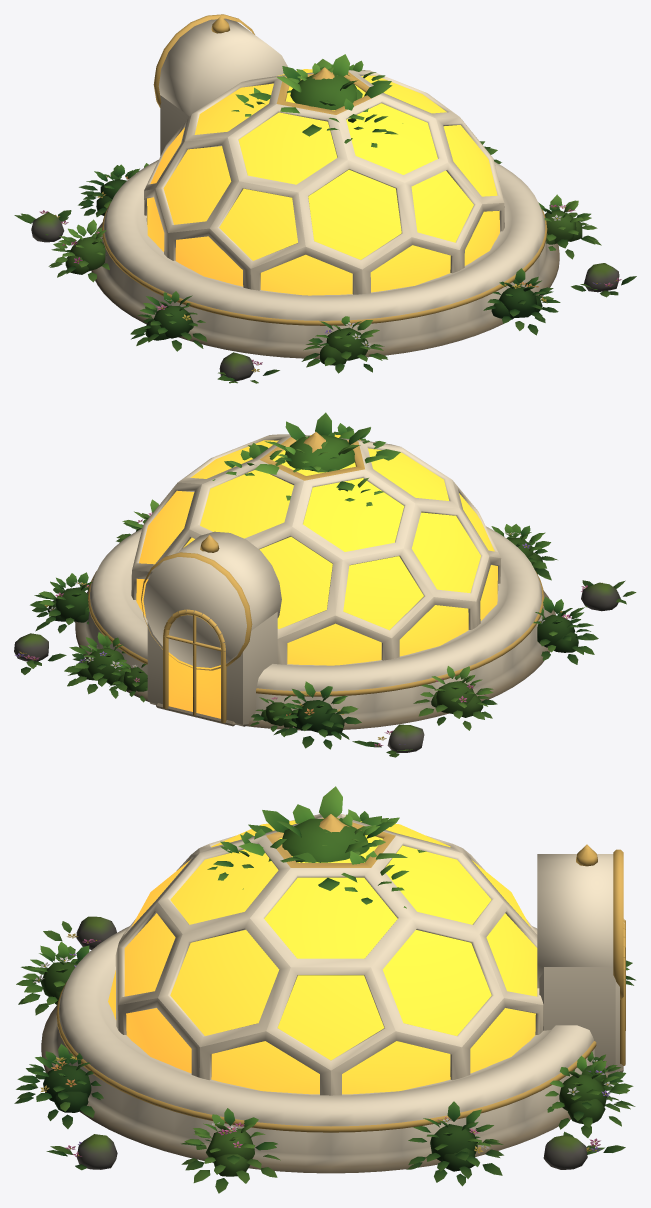
File: kit.glb
The picture shows the model from 3 angles, top to bottom: view 1: azimuth 30°, elevation 25°; view 2: azimuth 150°, elevation 25°; view 3: azimuth 270°, elevation 25°; orthographic projection. The views are drawn at different scales.
Visible parts, largest first — view 1: Kit_greenhouse, Kit_tree_a, Kit_portal; view 2: Kit_greenhouse, Kit_tree_a, Kit_portal; view 3: Kit_greenhouse, Kit_tree_a, Kit_portal.
Part boxes in pixels (x1,y1,x2,y2): Kit_greenhouse: (14,14,636,383); Kit_tree_a: (249,54,402,136); Kit_portal: (231,60,397,147); Kit_greenhouse: (14,432,636,757); Kit_tree_a: (248,412,400,500); Kit_portal: (212,423,385,506); Kit_greenhouse: (14,814,635,1193); Kit_tree_a: (238,786,426,890); Kit_portal: (207,809,408,908).
Bounding box in the file's own units: 8.96 × 4.23 × 8.52.
